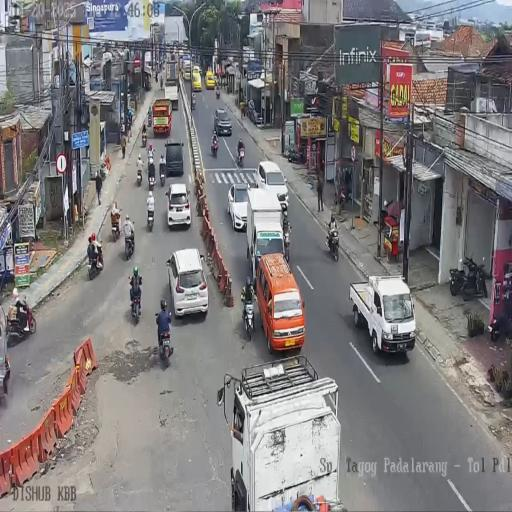car: (258, 253, 306, 354), (167, 248, 209, 318), (256, 160, 289, 212), (166, 181, 192, 228), (228, 181, 250, 230), (165, 140, 184, 178), (214, 107, 232, 137), (204, 68, 216, 90), (182, 57, 192, 80), (192, 68, 202, 90)
motorcycle: (449, 250, 487, 300), (489, 266, 512, 340), (6, 296, 37, 338), (154, 315, 172, 364), (241, 289, 254, 339), (129, 274, 142, 320), (326, 222, 340, 261), (88, 244, 104, 278), (285, 144, 303, 165), (282, 220, 291, 262), (124, 228, 134, 259), (147, 160, 156, 189), (146, 202, 155, 230), (159, 155, 167, 186), (112, 212, 121, 239), (236, 144, 245, 168), (211, 136, 218, 158), (136, 162, 142, 185), (142, 130, 148, 148), (191, 93, 196, 110), (215, 86, 220, 99), (154, 71, 158, 84), (156, 62, 160, 75), (160, 75, 163, 89)
truck: (228, 358, 338, 512), (350, 272, 416, 356), (164, 56, 180, 109), (152, 98, 172, 136)
